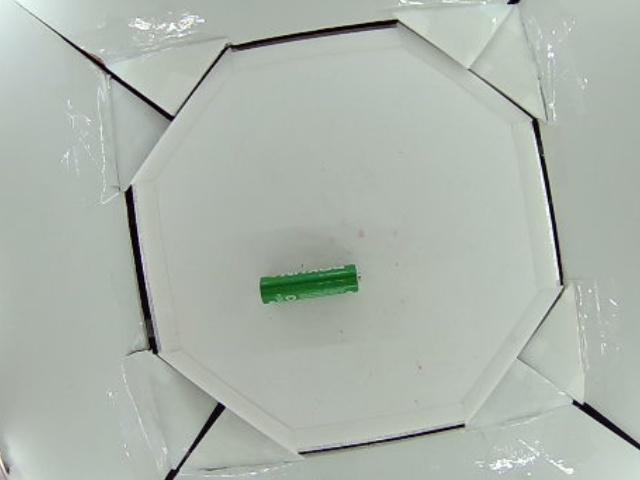Battery: (260, 262, 363, 305)
